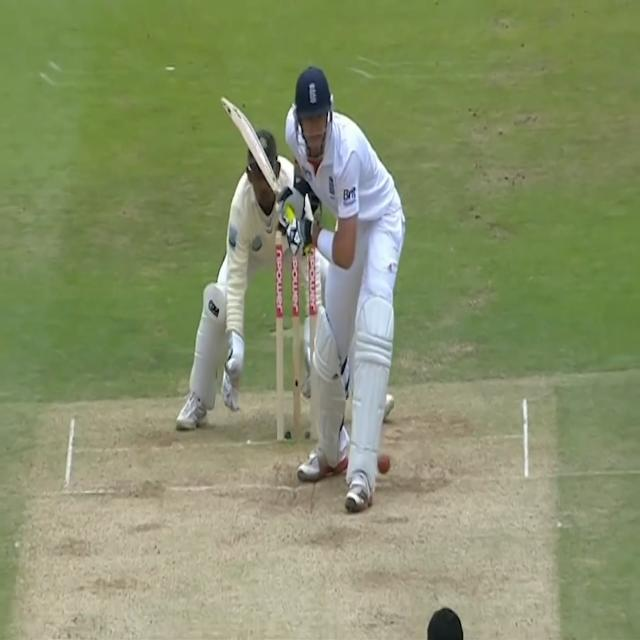ball: (377, 451, 391, 477)
